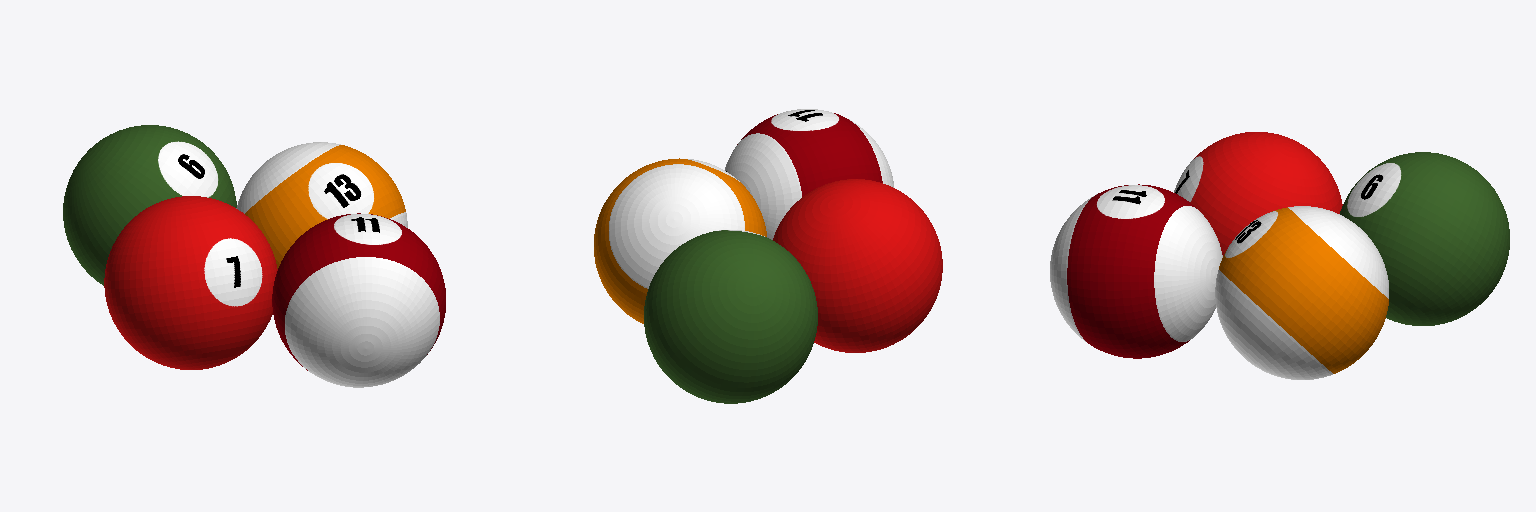
3 views of the same model, side by side, from view 1: azimuth 30°, elevation 25°; view 2: azimuth 150°, elevation 25°; view 3: azimuth 270°, elevation 25° (orthographic).
Parts seen in each view (by area): view 1: 11_메쉬.007, 7_메쉬.009, 6_메쉬.010, 13_메쉬.006; view 2: 6_메쉬.010, 7_메쉬.009, 13_메쉬.006, 11_메쉬.007; view 3: 13_메쉬.006, 11_메쉬.007, 6_메쉬.010, 7_메쉬.009.
Part boxes in pixels (x1,y1,x2,y2): 11_메쉬.007: (272, 213, 445, 387); 7_메쉬.009: (104, 196, 277, 369); 6_메쉬.010: (63, 125, 236, 285); 13_메쉬.006: (236, 142, 407, 268); 6_메쉬.010: (644, 230, 817, 403); 7_메쉬.009: (773, 179, 942, 352); 13_메쉬.006: (594, 158, 766, 323); 11_메쉬.007: (725, 109, 893, 239); 13_메쉬.006: (1215, 206, 1388, 379); 11_메쉬.007: (1050, 184, 1222, 358); 6_메쉬.010: (1340, 152, 1509, 325); 7_메쉬.009: (1174, 132, 1342, 255).
Size of the model in its own units: 0.8414 by 0.419 by 1.11.
4 materials, 4 textured.